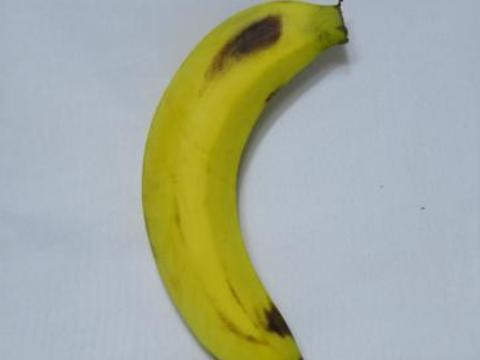freshripe: (128, 0, 359, 359)
